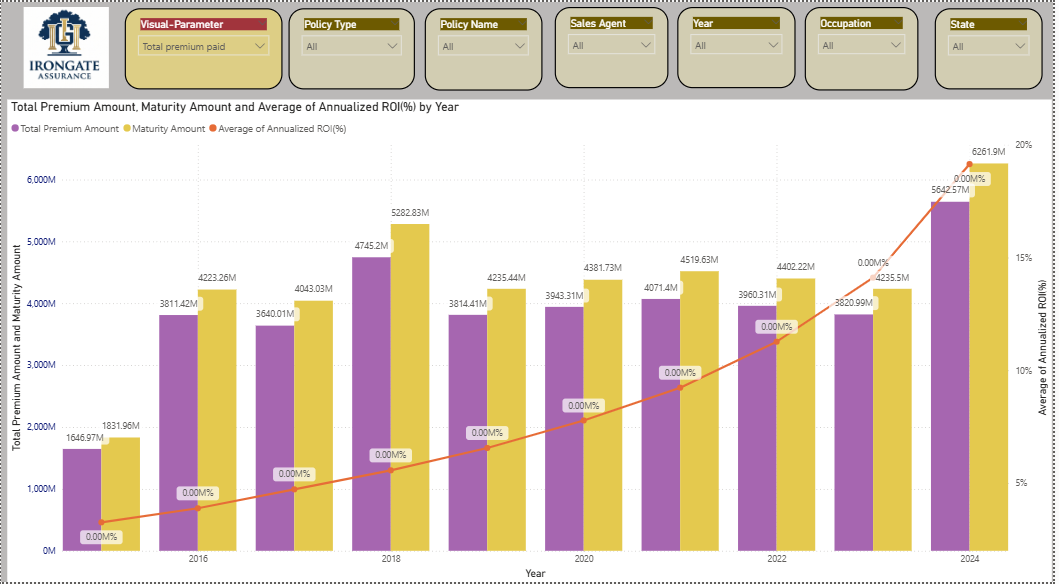

This screenshot's page, from the dashboard's own definition file:
{"tool":"powerbi","page":{"name":"Investment Value vs Maturity Value","canvas":[1450,800],"ordinal":2},"visuals":[{"type":"image","box":[0,7.7,180,112.3],"z":0},{"type":"slicer","fields":{"Values":["DM Policy_Type.Policy Type"]},"box":[397.3,8.1,174.3,112.2],"z":1000},{"type":"slicer","fields":{"Values":["DM Policy_Protection_Plan.Policy Name"]},"box":[583.8,8.1,162.2,113.5],"z":2000},{"type":"slicer","fields":{"Values":["DM Insurance_Agent_Table.Sales Agent"]},"box":[763.5,6.8,156.8,112.2],"z":3000},{"type":"slicer","fields":{"Values":["FCT Insurance_Policy_Table.Date of Purchase.Variation.Date Hierarchy.Year"]},"box":[932.4,6.8,163.5,112.2],"z":4000},{"type":"slicer","fields":{"Values":["DM Customer_Detail_Table (2).Occupation"]},"box":[1108.1,6.8,156.8,114.9],"z":5000},{"type":"slicer","fields":{"Values":["DM Customer_Detail_Table (2).State"]},"box":[1287.8,9.5,148.6,112.2],"z":6000},{"type":"slicer","fields":{"Values":["Visual-Parameter.Visual-Parameter"]},"box":[170.3,8.1,217.6,112.2],"z":7000},{"type":"lineClusteredColumnComboChart","fields":{"Y":["Sum(FCT Insurance_Policy_Table.Total Premium Amount)","Sum(FCT Insurance_Policy_Table.Maturity Amount)"],"Y2":["Avg(FCT Insurance_Policy_Table.Annualized ROI(%))"],"Category":["FCT Insurance_Policy_Table.Start Date.Variation.Date Hierarchy.Year","FCT Insurance_Policy_Table.Start Date.Variation.Date Hierarchy.Quarter","FCT Insurance_Policy_Table.Start Date.Variation.Date Hierarchy.Month","FCT Insurance_Policy_Table.Start Date.Variation.Date Hierarchy.Day"]},"box":[9.5,133.8,1440.5,666.2],"z":8000}]}

Visuals, with their boxes in screenshot pixels (x1, y1, x2, y2), scaled from the page's 1450x800 canvas onto the 1059x584 screenshot:
image: locate(0, 6, 131, 88)
slicer - DM Policy_Type.Policy Type: locate(290, 6, 417, 88)
slicer - DM Policy_Protection_Plan.Policy Name: locate(426, 6, 545, 89)
slicer - DM Insurance_Agent_Table.Sales Agent: locate(558, 5, 672, 87)
slicer - FCT Insurance_Policy_Table.Date of Purchase.Variation.Date Hierarchy.Year: locate(681, 5, 800, 87)
slicer - DM Customer_Detail_Table (2).Occupation: locate(809, 5, 924, 89)
slicer - DM Customer_Detail_Table (2).State: locate(941, 7, 1049, 89)
slicer - Visual-Parameter.Visual-Parameter: locate(124, 6, 283, 88)
lineClusteredColumnComboChart - Sum(FCT Insurance_Policy_Table.Total Premium Amount) x Sum(FCT Insurance_Policy_Table.Maturity Amount): locate(7, 98, 1058, 583)
